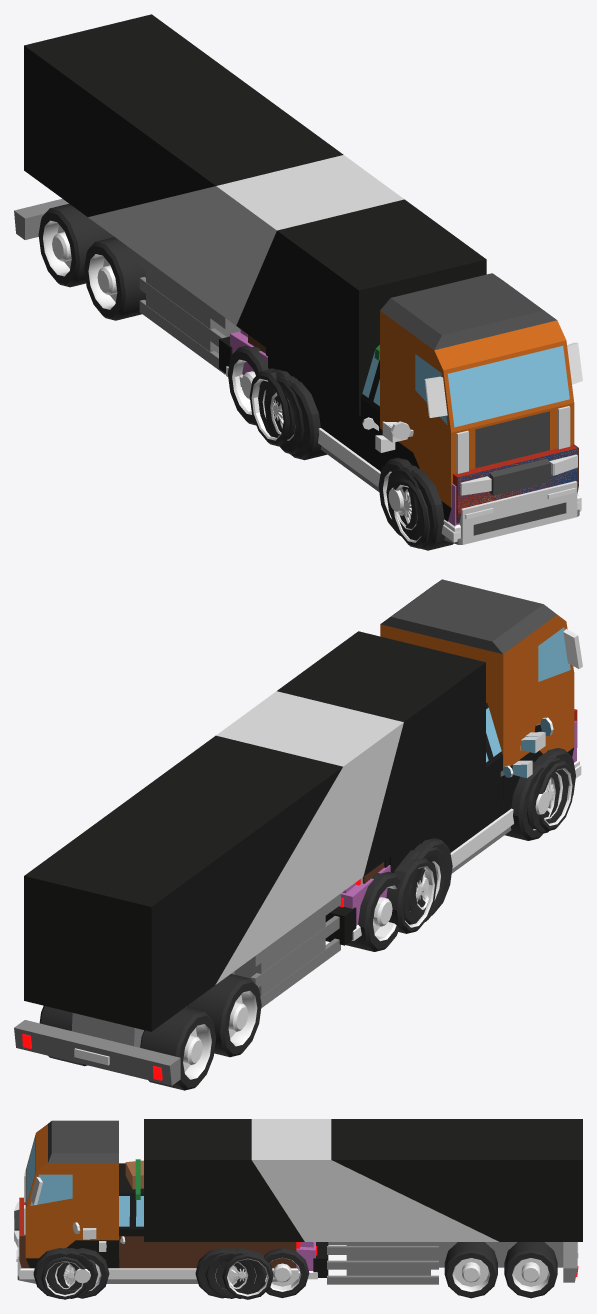
File: CarsPack.fbx
The picture shows the model from 3 angles, top to bottom: view 1: azimuth 30°, elevation 25°; view 2: azimuth 150°, elevation 25°; view 3: azimuth 270°, elevation 25°; orthographic projection. The views are drawn at different scales.
Visible parts, largest first — view 1: car_heavy, car_van, car_speueueuen, car_tiny, car_md5, car_st1, car_st2, car_st3; view 2: car_heavy, car_van, car_speueueuen, car_md5, car_tiny; view 3: car_heavy, car_st3, car_van, car_speueueuen, car_md5, car_st2, car_st1, car_tiny, car_police.
Boxes of the visible parts, box(x1,y1,x2,y2) form: car_heavy: box(14, 14, 582, 535); car_van: box(264, 344, 422, 540); car_speueueuen: box(249, 368, 579, 548); car_tiny: box(274, 383, 579, 550); car_md5: box(226, 329, 581, 542); car_st1: box(293, 381, 579, 550); car_st2: box(295, 345, 579, 547); car_st3: box(247, 334, 581, 544); car_heavy: box(14, 579, 582, 1090); car_van: box(389, 702, 568, 921); car_speueueuen: box(360, 760, 574, 933); car_md5: box(339, 721, 581, 940); car_tiny: box(416, 709, 579, 915); car_heavy: box(24, 1119, 582, 1298); car_st3: box(14, 1210, 300, 1298); car_van: box(46, 1163, 256, 1298); car_speueueuen: box(16, 1241, 277, 1299); car_md5: box(19, 1236, 317, 1289); car_st2: box(125, 1159, 233, 1283); car_st1: box(83, 1230, 242, 1298); car_tiny: box(14, 1197, 90, 1284); car_police: box(63, 1228, 246, 1298).
Size of the model in its own units: 575 by 726 by 2681.
